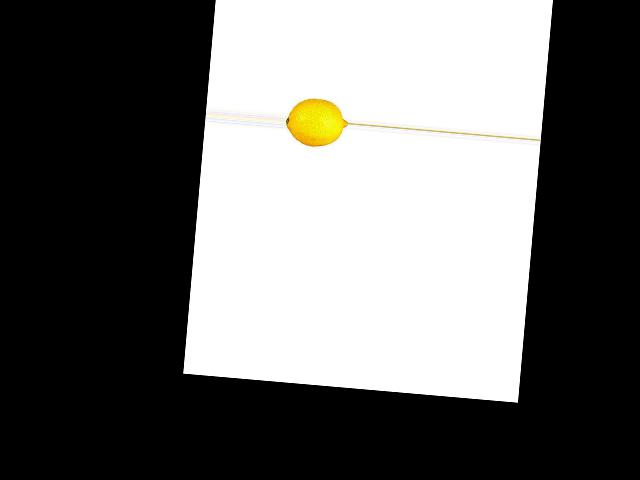lemon: (284, 96, 348, 149)
